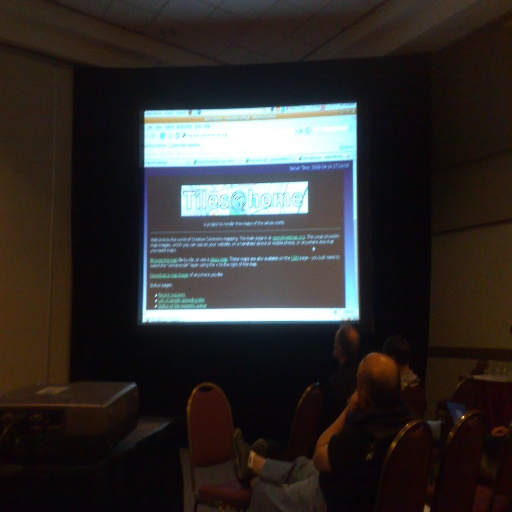hand: (348, 389, 359, 411), (492, 426, 509, 437)
